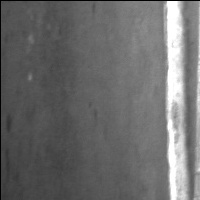scratches: (161, 1, 200, 200)
